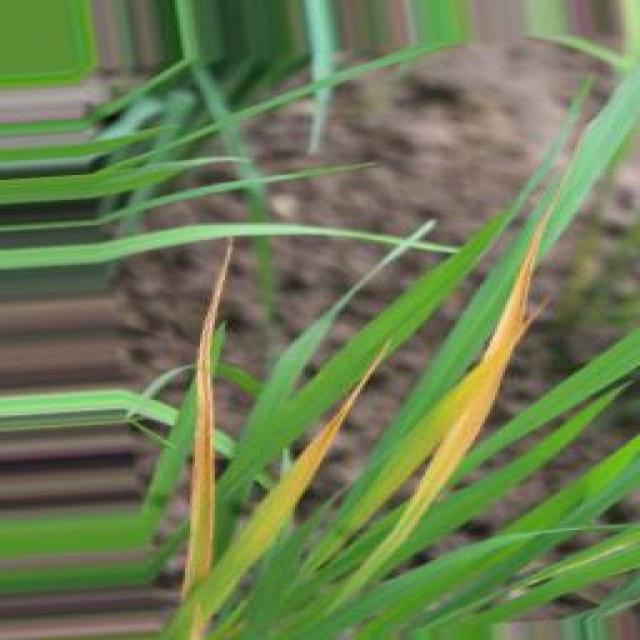Rice Tungro: (345, 216, 547, 601), (189, 350, 385, 639), (186, 240, 232, 597), (401, 388, 457, 478)
